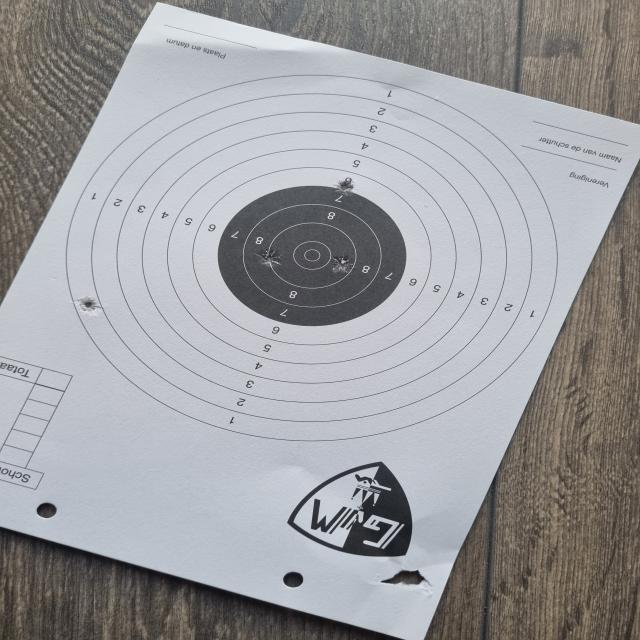2: (74, 293, 102, 315)
7: (332, 176, 358, 195)
9: (254, 249, 282, 270), (331, 254, 356, 275)
Target: (65, 72, 556, 444)
black_contour: (217, 186, 408, 328)
